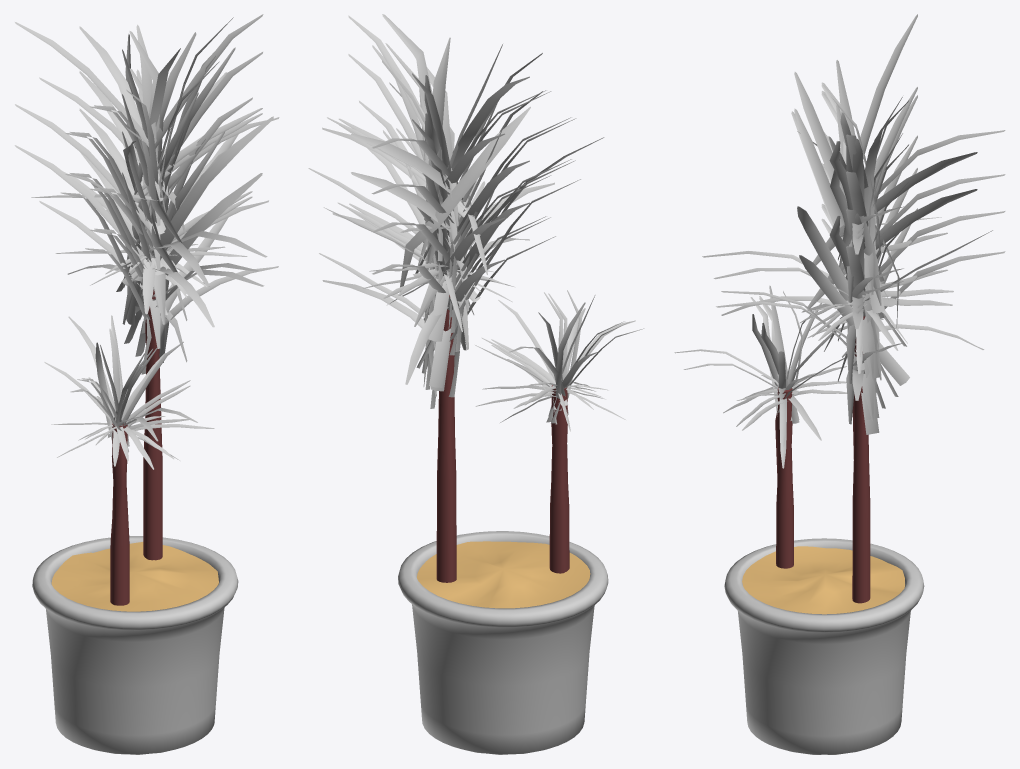
The model's file is Plant.obj.
3 renders of one model, left to right at view 1: azimuth 30°, elevation 25°; view 2: azimuth 150°, elevation 25°; view 3: azimuth 270°, elevation 25°, orthographic. The views are drawn at different scales.
Parts seen in each view (by area): view 1: pasted__pCylinder8 group2, pCylinder3, pCylinder2, pCylinder1, pPlane161, pPlane164, pPlane75, pPlane152, pPlane113, pPlane138, pPlane143, pPlane111 (+31 smaller); view 2: pasted__pCylinder8 group2, pCylinder3, pCylinder2, pCylinder1, pPlane101, pPlane131, pPlane155, pPlane152, pPlane164, pPlane98, pPlane136, pPlane68 (+13 smaller); view 3: pasted__pCylinder8 group2, pCylinder3, pCylinder2, pCylinder1, pPlane75, pPlane95, pPlane161, pPlane98, pPlane152, pPlane131, pPlane116, pPlane130 (+10 smaller).
Boxes of the visible parts, x1,y1,x2,y2 form: pasted__pCylinder8 group2: [32, 536, 238, 754]; pCylinder3: [51, 542, 218, 611]; pCylinder2: [143, 290, 162, 560]; pCylinder1: [110, 423, 129, 605]; pPlane161: [152, 116, 273, 260]; pPlane164: [134, 14, 263, 201]; pPlane75: [135, 173, 262, 319]; pPlane152: [15, 22, 162, 182]; pPlane113: [79, 26, 160, 225]; pPlane138: [15, 104, 150, 232]; pPlane143: [14, 145, 147, 268]; pPlane111: [39, 77, 185, 233]; pasted__pCylinder8 group2: [398, 531, 608, 754]; pCylinder3: [417, 541, 590, 608]; pCylinder2: [436, 295, 456, 582]; pCylinder1: [549, 385, 569, 573]; pPlane101: [400, 106, 530, 287]; pPlane131: [351, 133, 471, 206]; pPlane155: [348, 54, 458, 264]; pPlane152: [451, 76, 529, 170]; pPlane164: [348, 15, 458, 226]; pPlane98: [351, 172, 471, 249]; pPlane136: [424, 37, 450, 246]; pPlane68: [429, 216, 477, 387]; pasted__pCylinder8 group2: [724, 538, 924, 754]; pCylinder3: [742, 546, 904, 614]; pCylinder2: [852, 316, 870, 603]; pCylinder1: [775, 387, 793, 568]; pPlane75: [799, 255, 909, 385]; pPlane95: [794, 108, 884, 318]; pPlane161: [797, 206, 848, 300]; pPlane98: [807, 189, 977, 308]; pPlane152: [860, 14, 917, 159]; pPlane131: [806, 152, 977, 271]; pPlane116: [864, 128, 884, 313]; pPlane130: [794, 72, 884, 281].
Bounding box in the file's own units: 4.5 × 11.23 × 4.99.
